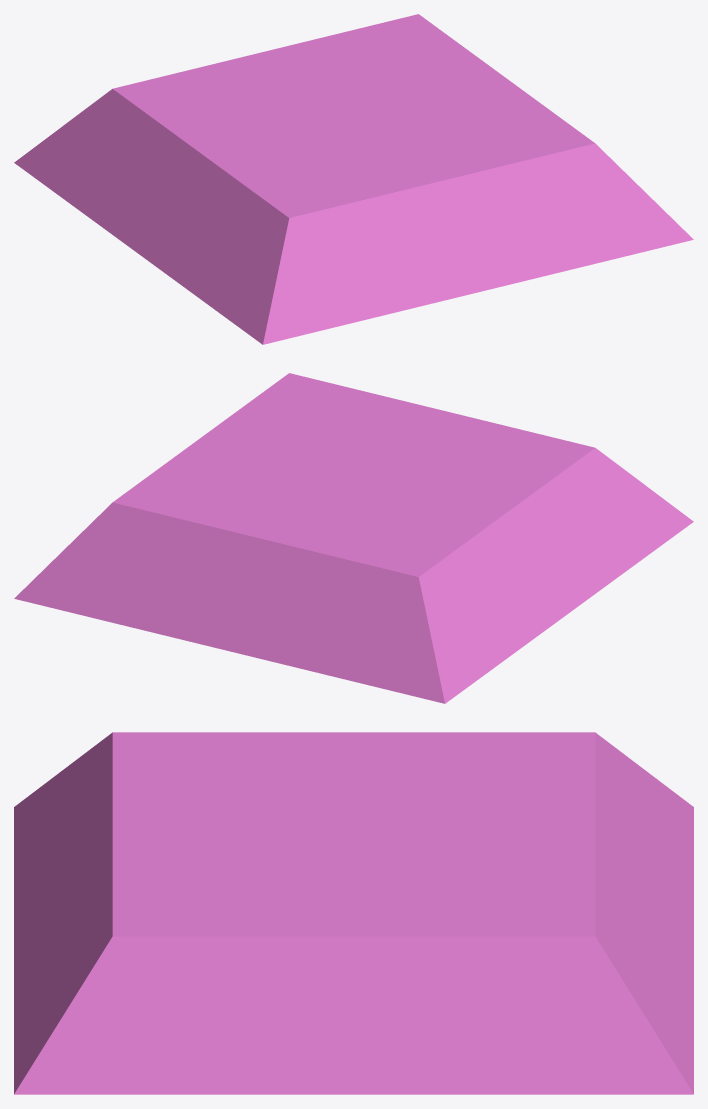
Rendered from Path_Slate_Pink.FBX.
The picture shows the model from 3 angles, top to bottom: view 1: azimuth 30°, elevation 25°; view 2: azimuth 150°, elevation 25°; view 3: azimuth 270°, elevation 25°; orthographic projection. The views are drawn at different scales.
Visible parts, largest first — view 1: Path_Slate_Pink; view 2: Path_Slate_Pink; view 3: Path_Slate_Pink.
Part boxes in pixels (box(x1,y1,x2,y2)): Path_Slate_Pink: box(14, 14, 693, 344); Path_Slate_Pink: box(14, 373, 693, 703); Path_Slate_Pink: box(14, 732, 693, 1094).
Bounding box in the file's own units: 100 × 18.88 × 100.
